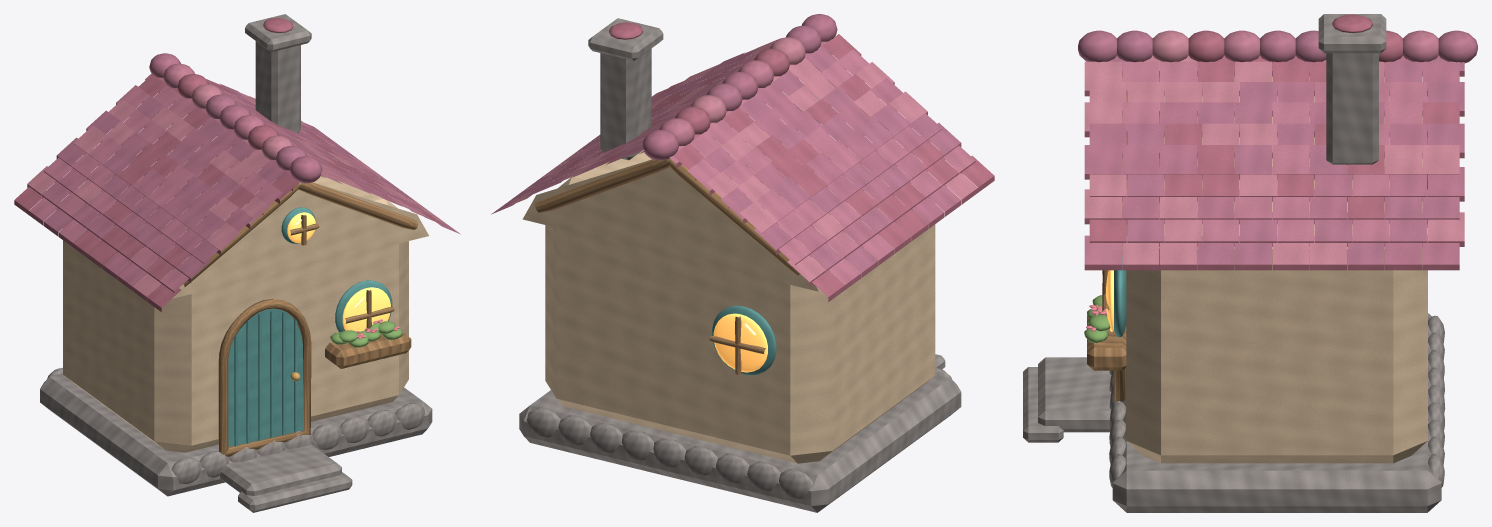
Rendered from cottage.glb.
3 renders of one model, left to right at view 1: azimuth 30°, elevation 25°; view 2: azimuth 150°, elevation 25°; view 3: azimuth 270°, elevation 25°, orthographic. The views are drawn at different scales.
Parts seen in each view (by area): view 1: cottage; view 2: cottage; view 3: cottage.
Boxes of the visible parts, bbox=[...] form: cottage: bbox=[14, 14, 459, 512]; cottage: bbox=[491, 14, 994, 512]; cottage: bbox=[1023, 14, 1477, 512].
Size of the model in its own units: 2.92 by 3.36 by 3.02.
Materials: 14 (9 with a texture image).
